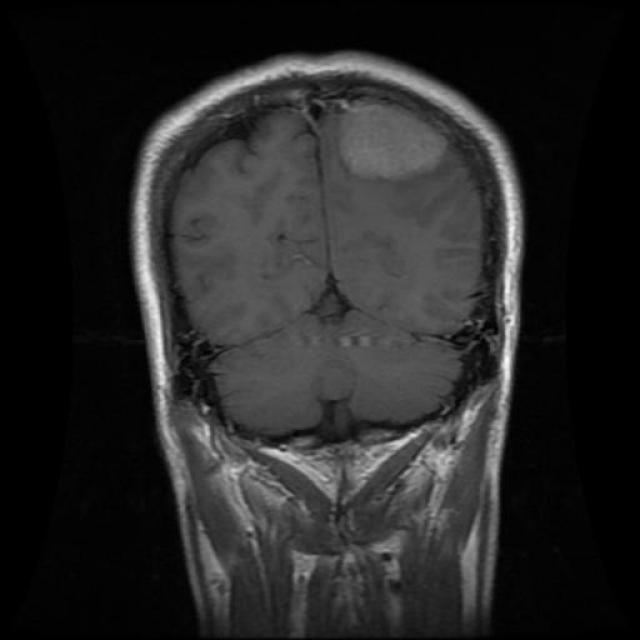Brain-Tumor: (328, 85, 459, 185)
